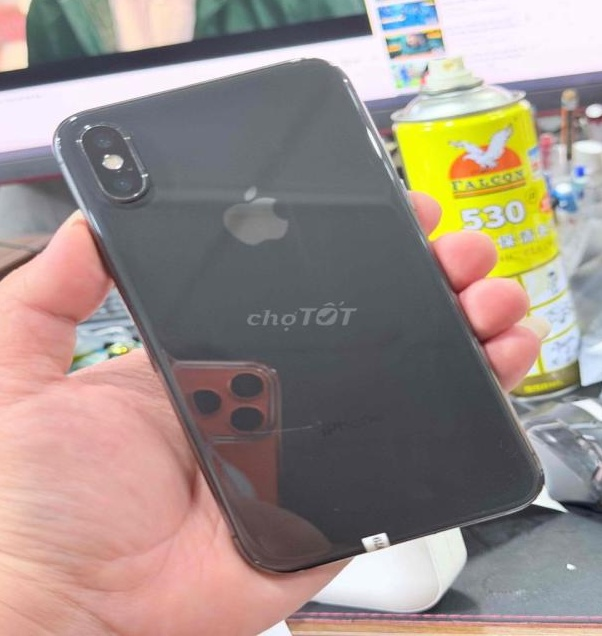scratch: (480, 423, 548, 502), (106, 121, 166, 187), (294, 52, 364, 99), (251, 554, 320, 582), (317, 494, 357, 521), (59, 127, 96, 155)
